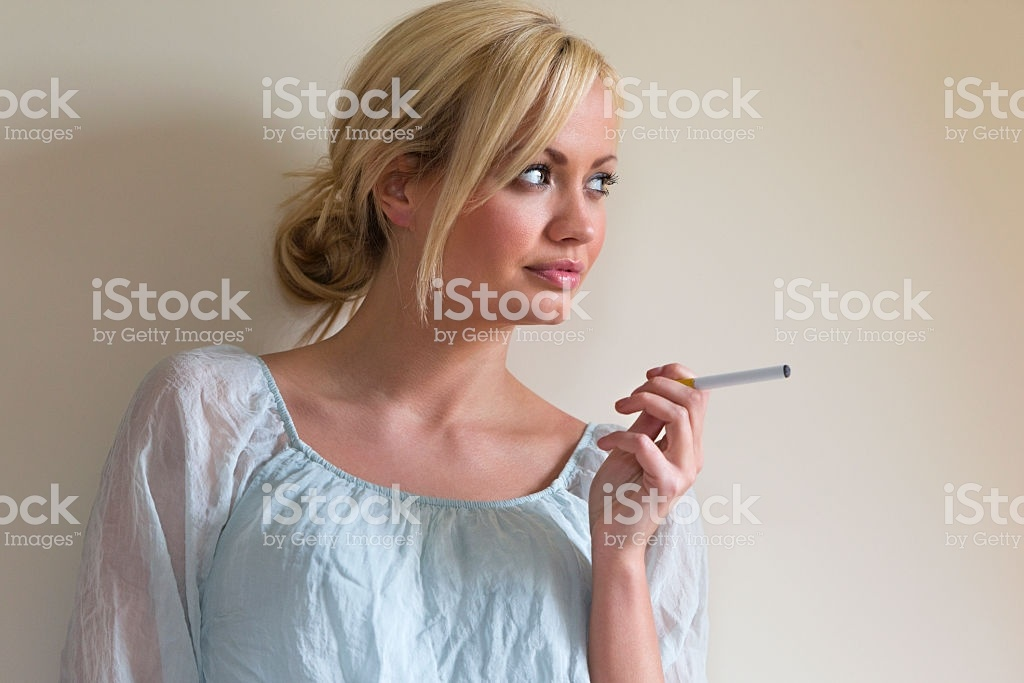sigaretta: (673, 364, 793, 396)
